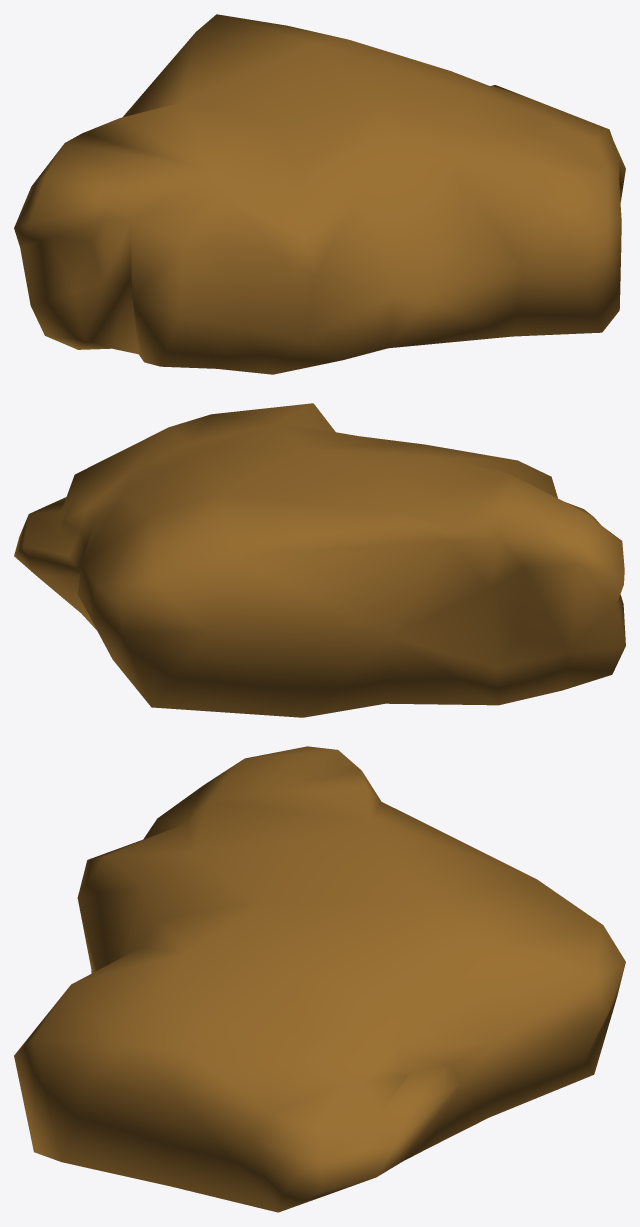
File: MSH_Rock_Single_13.FBX
3 renders of one model, top to bottom at view 1: azimuth 30°, elevation 25°; view 2: azimuth 150°, elevation 25°; view 3: azimuth 270°, elevation 25°, orthographic. The views are drawn at different scales.
Parts seen in each view (by area): view 1: MESH_LOD0; view 2: MESH_LOD0; view 3: MESH_LOD0.
Boxes of the visible parts, x1,y1,x2,y2 form: MESH_LOD0: (14, 14, 625, 374); MESH_LOD0: (14, 403, 625, 717); MESH_LOD0: (14, 746, 625, 1212).
Size of what is drawn, in the model's own units: 42.5 by 12.43 by 34.01.
